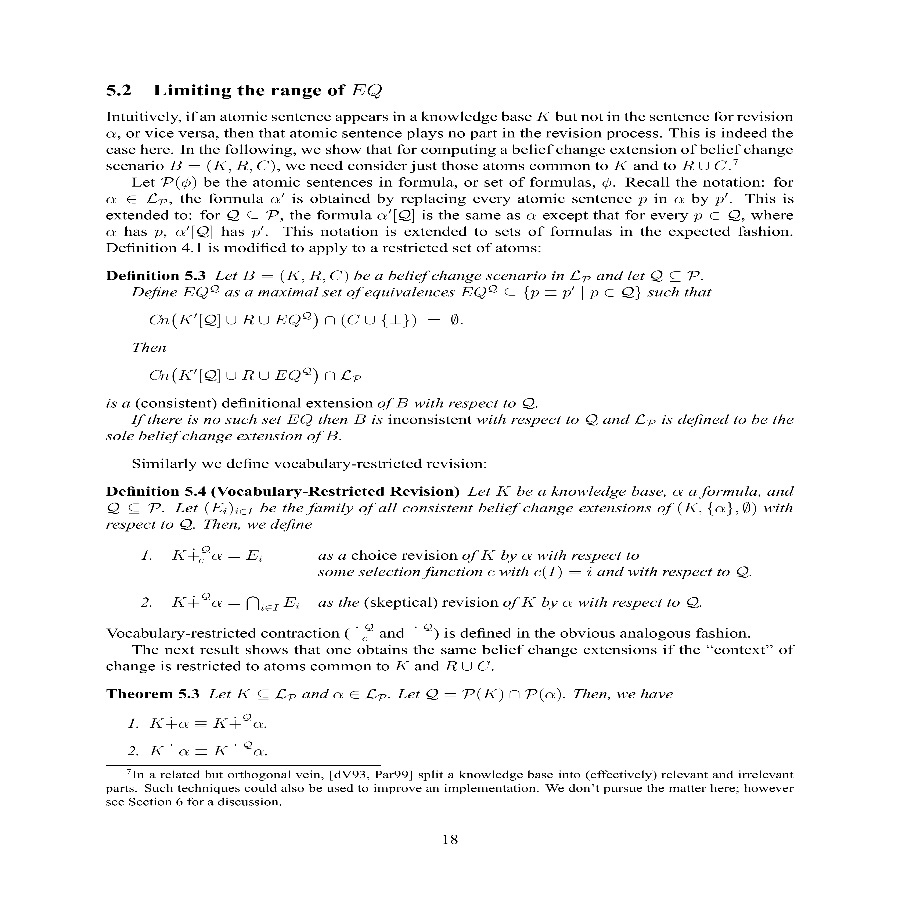eq: (149, 306, 460, 331), (148, 364, 365, 385), (171, 589, 307, 618), (145, 710, 267, 733), (147, 738, 265, 759), (169, 542, 270, 565)
